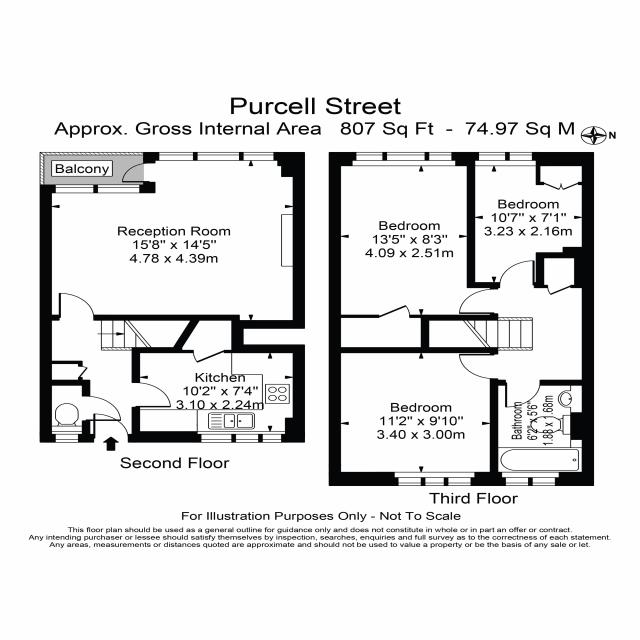DOOR: (92, 412, 129, 443), (130, 382, 172, 409), (58, 292, 97, 321), (457, 288, 499, 314), (504, 379, 541, 408), (458, 354, 499, 380), (499, 260, 535, 289), (121, 162, 156, 183), (378, 303, 412, 319), (191, 349, 226, 364)
ROOM: (39, 152, 306, 329), (328, 152, 499, 321), (328, 346, 499, 486), (130, 344, 306, 443), (466, 152, 594, 288)
WINDOW: (97, 184, 140, 194), (54, 184, 95, 194), (196, 152, 240, 161), (386, 152, 426, 161), (158, 152, 194, 161), (201, 433, 232, 443), (355, 151, 384, 161), (478, 151, 506, 161), (243, 152, 274, 161), (54, 433, 79, 443), (428, 151, 453, 161), (509, 151, 533, 161), (505, 477, 529, 487), (397, 477, 422, 486), (235, 434, 259, 443), (532, 477, 556, 486), (447, 477, 471, 486), (424, 477, 445, 486), (262, 434, 282, 443)
